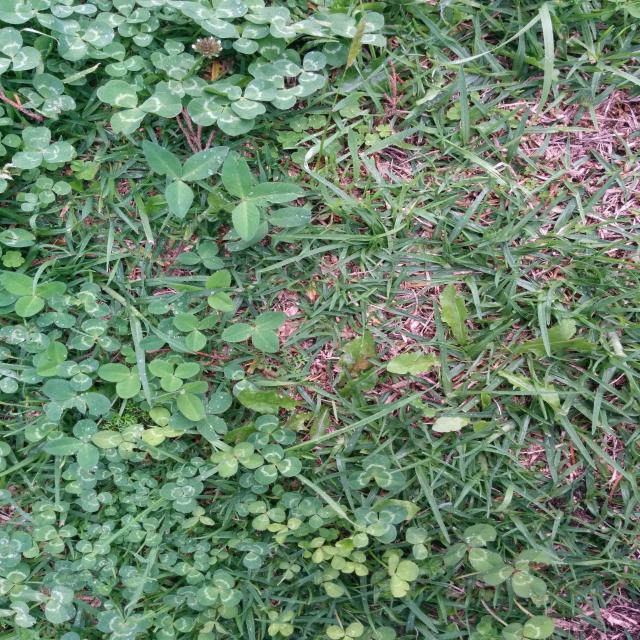Four Leaf Clover: (210, 442, 264, 477)
